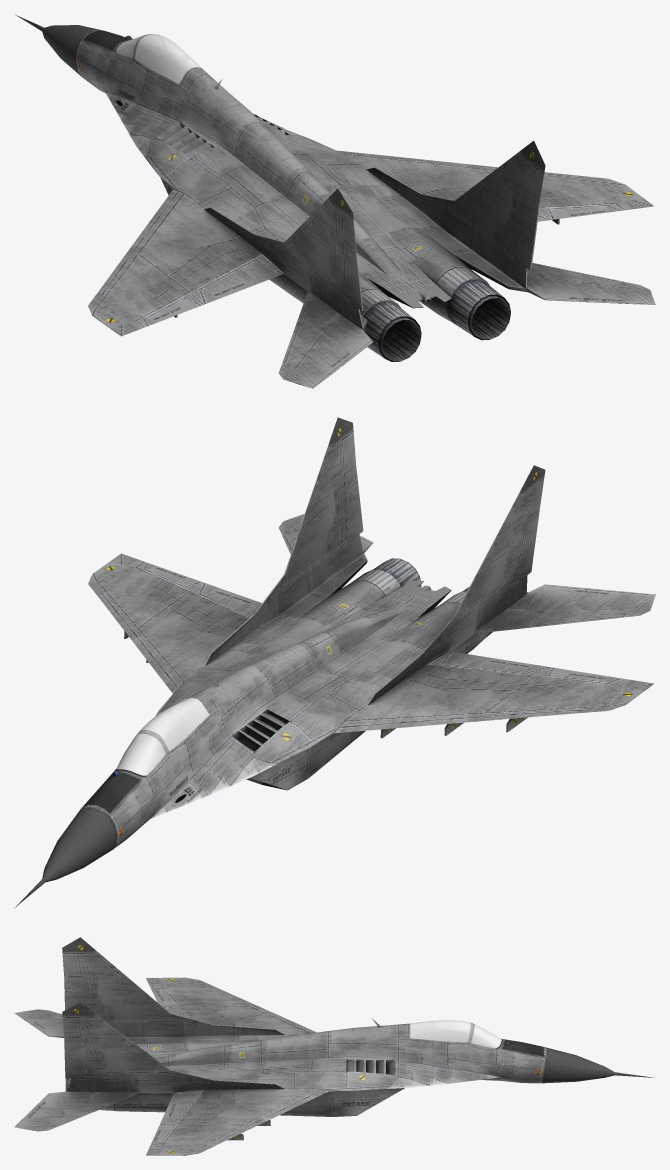
File: mig29.glb
3 renders of one model, top to bottom at view 1: azimuth 30°, elevation 25°; view 2: azimuth 150°, elevation 25°; view 3: azimuth 270°, elevation 25°, orthographic. The views are drawn at different scales.
Parts seen in each view (by area): view 1: MiG_29, glass; view 2: MiG_29, glass; view 3: MiG_29, glass.
Boxes of the visible parts, left/top/right/bottom form: MiG_29: left=15, top=14, right=655, bottom=388; glass: left=116, top=34, right=200, bottom=83; MiG_29: left=14, top=417, right=655, bottom=908; glass: left=116, top=697, right=209, bottom=775; MiG_29: left=14, top=937, right=654, bottom=1155; glass: left=410, top=1020, right=501, bottom=1048.
Bounding box in the file's own units: 11.34 × 3.86 × 17.32.
Materials: 2 (1 with a texture image).
